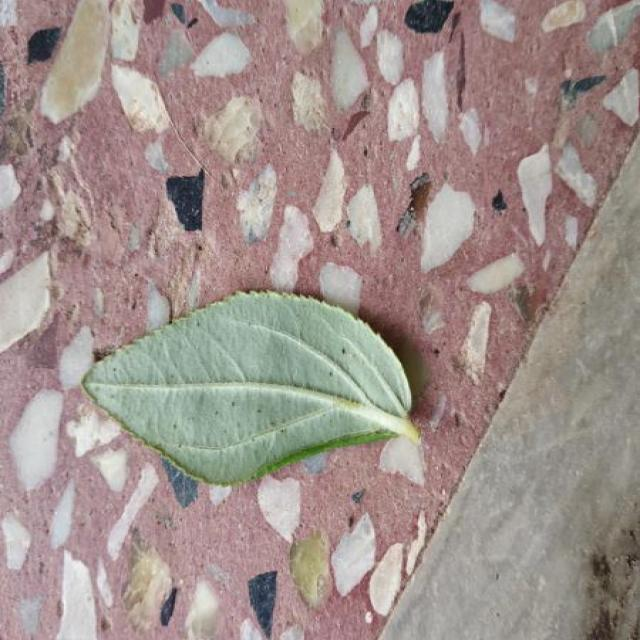Astma_weed: (83, 292, 418, 484)
